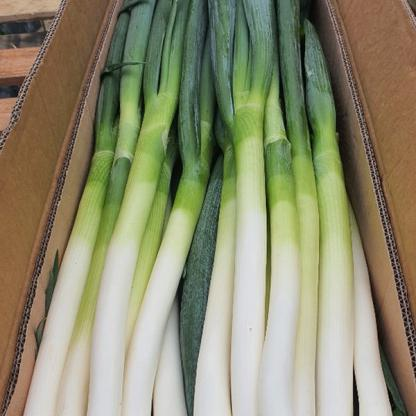green onion: (23, 0, 209, 415), (189, 0, 356, 415)
